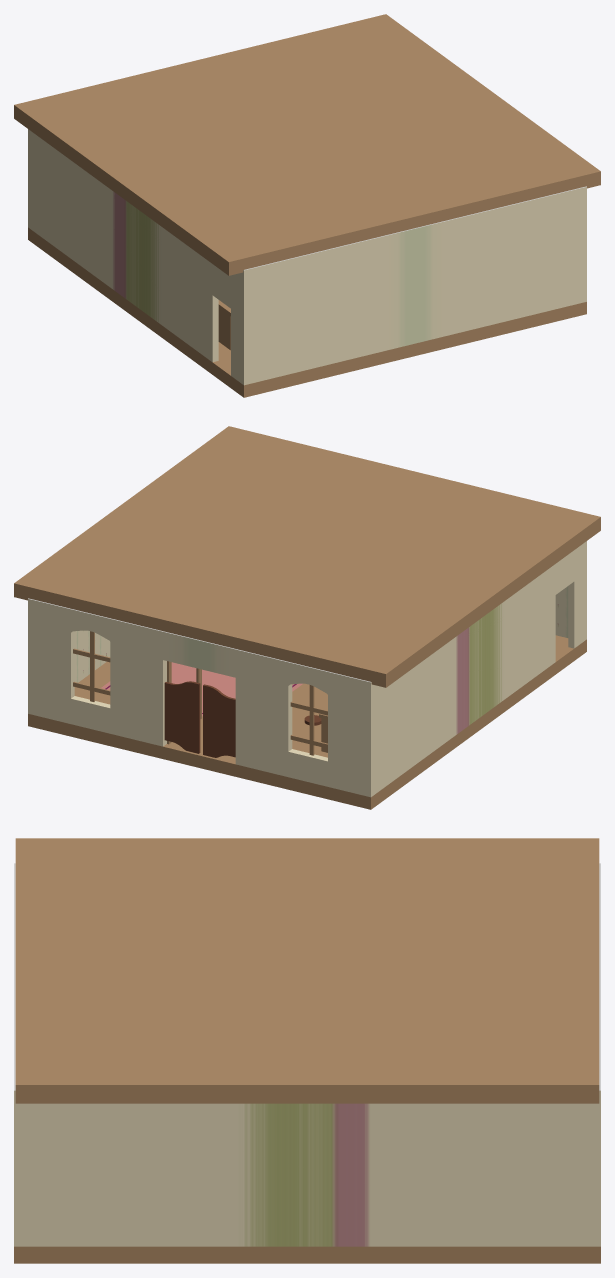
Rendered from M_bar_salloon_002_BLOCKOUT.fbx.
3 renders of one model, top to bottom at view 1: azimuth 30°, elevation 25°; view 2: azimuth 150°, elevation 25°; view 3: azimuth 270°, elevation 25°, orthographic. The views are drawn at different scales.
Visible parts, largest first — view 1: roof, walls, floor, Cube; view 2: roof, walls, floor, Cube.006, Cube.008, fighting; view 3: roof, walls, floor.
Part boxes in pixels (bbox=[...]): roof: bbox=[14, 14, 600, 275]; walls: bbox=[28, 129, 586, 385]; floor: bbox=[28, 227, 586, 397]; Cube: bbox=[218, 302, 230, 350]; roof: bbox=[14, 426, 600, 687]; walls: bbox=[28, 541, 586, 797]; floor: bbox=[28, 635, 586, 809]; Cube.006: bbox=[164, 681, 235, 757]; Cube.008: bbox=[73, 631, 327, 755]; fighting: bbox=[101, 662, 302, 716]; roof: bbox=[15, 838, 599, 1103]; walls: bbox=[14, 863, 600, 1246]; floor: bbox=[14, 1246, 600, 1263].
Bounding box in the file's own units: 12.37 × 4.83 × 12.44.
